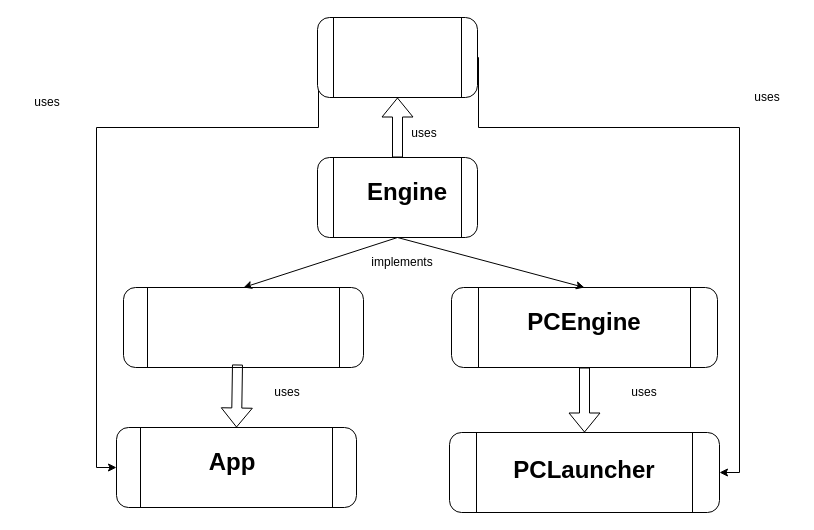
Some shapes in this 814 by 530 pixel diagram are drawn without their labels. Here are the shapes that lost their labels. From the top down, the centre of each, then its label:
At point 397,57: "Logic".
At point 243,327: "AndroidEngine".
